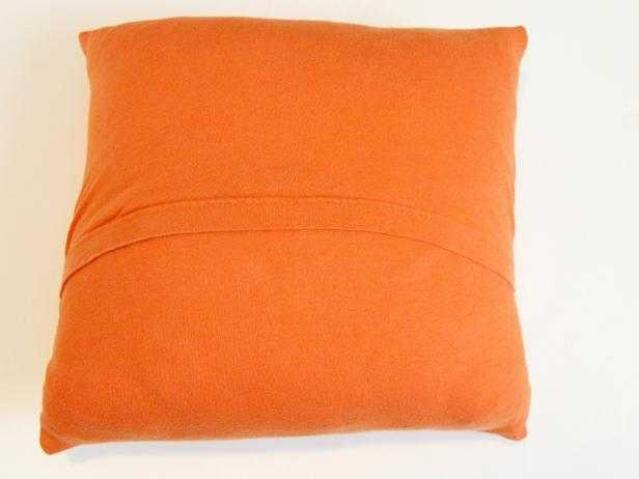pillow: (39, 15, 533, 455)
